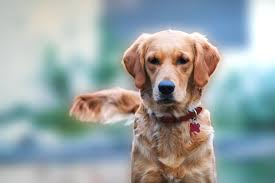Golden Retriever: (67, 18, 238, 181)
